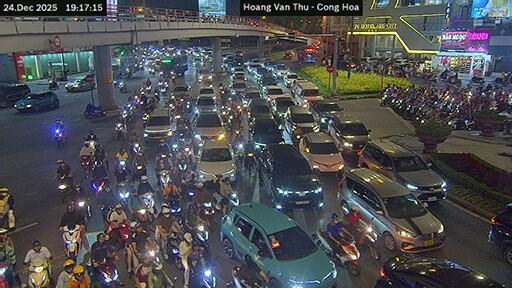motorbike: (312, 229, 358, 274), (227, 265, 275, 287), (355, 219, 380, 259), (86, 261, 118, 287), (61, 226, 80, 260), (166, 234, 181, 270), (192, 265, 216, 287), (108, 225, 128, 250), (28, 262, 48, 287), (134, 207, 152, 229), (167, 198, 182, 224), (199, 202, 214, 228), (74, 198, 90, 221), (195, 224, 208, 252), (117, 181, 130, 206), (90, 176, 109, 193), (57, 175, 70, 199), (83, 103, 105, 117), (156, 170, 169, 190), (182, 181, 195, 199), (0, 261, 9, 287), (133, 163, 146, 180), (53, 127, 63, 147), (80, 156, 90, 176), (141, 193, 152, 211), (211, 190, 220, 210), (121, 103, 131, 121), (115, 121, 125, 138), (229, 189, 239, 206), (83, 138, 96, 149), (176, 158, 186, 172), (469, 76, 483, 85), (131, 142, 140, 153), (118, 80, 127, 91), (48, 79, 57, 89), (163, 194, 165, 197)
